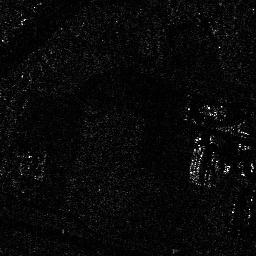ship: (189, 136, 206, 182)
